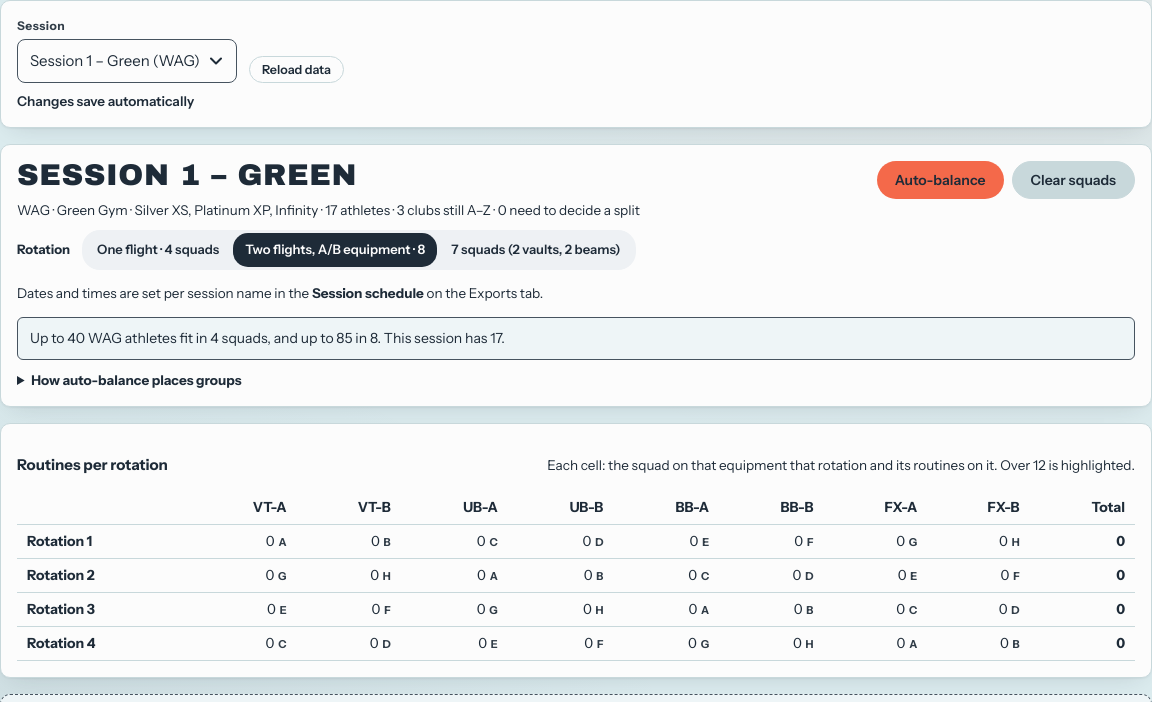
Squads screen › a new WAG session defaults to two flights on A/B equipment (8 squads); a new MAG session to one flight (6 squads)
Expected: the heading "Session 1 – Green" is shown, left=17, top=159, right=357, bottom=191
Click the dropdown labelled "Session".
click(127, 61)  # box left=17, top=39, right=237, bottom=83
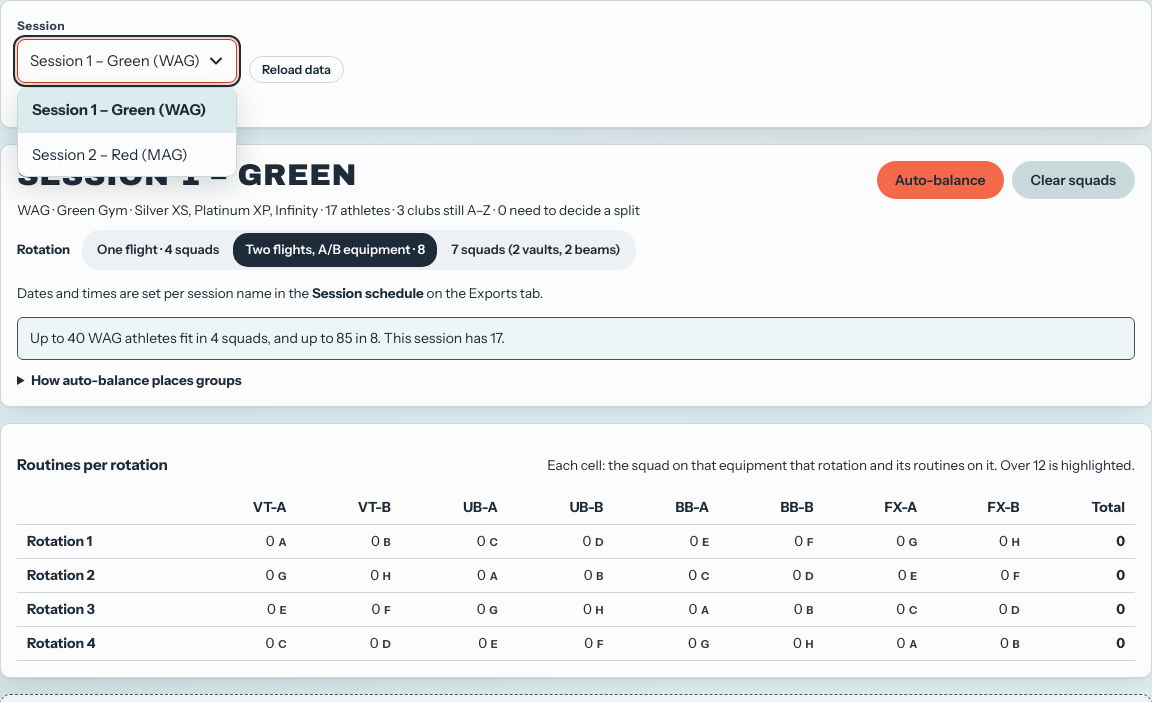
Click the option "Session 2 – Red (MAG)".
click(110, 154)  # box left=32, top=144, right=188, bottom=164
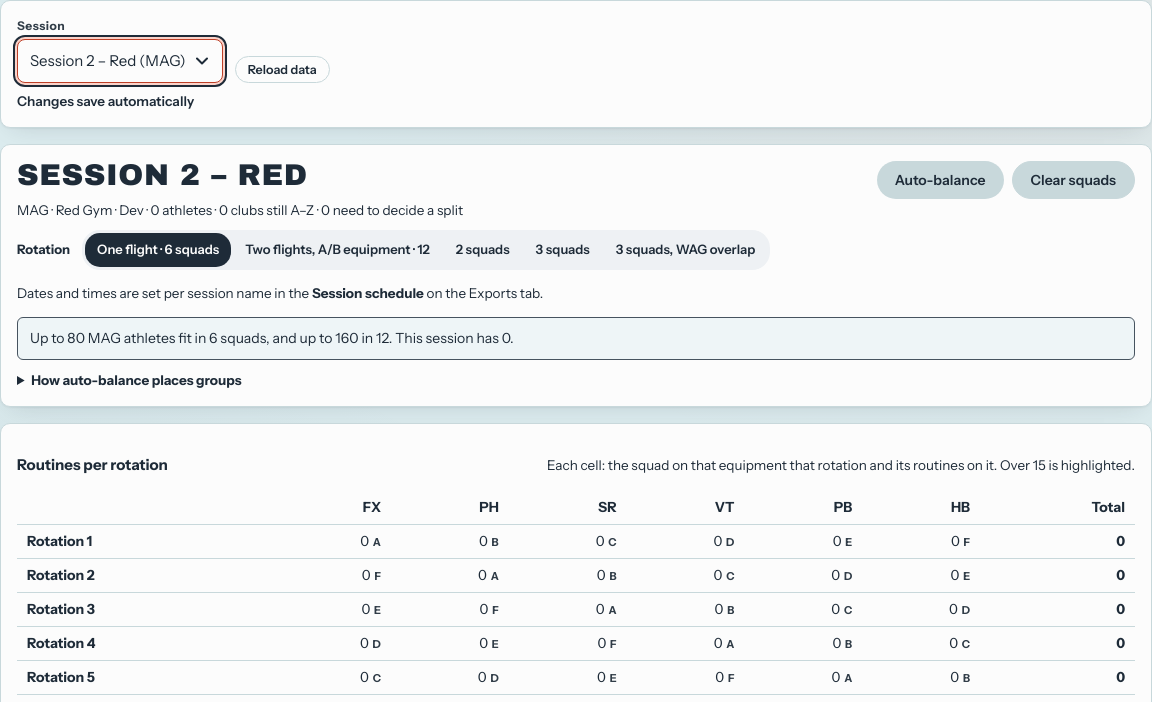
Now the heading "Session 2 – Red" is shown, box left=17, top=159, right=308, bottom=191
